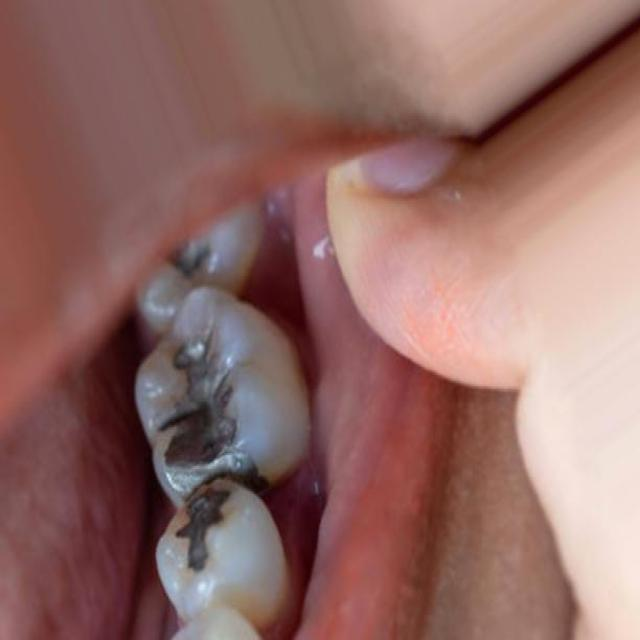caries: (142, 318, 259, 472), (158, 471, 248, 584)
